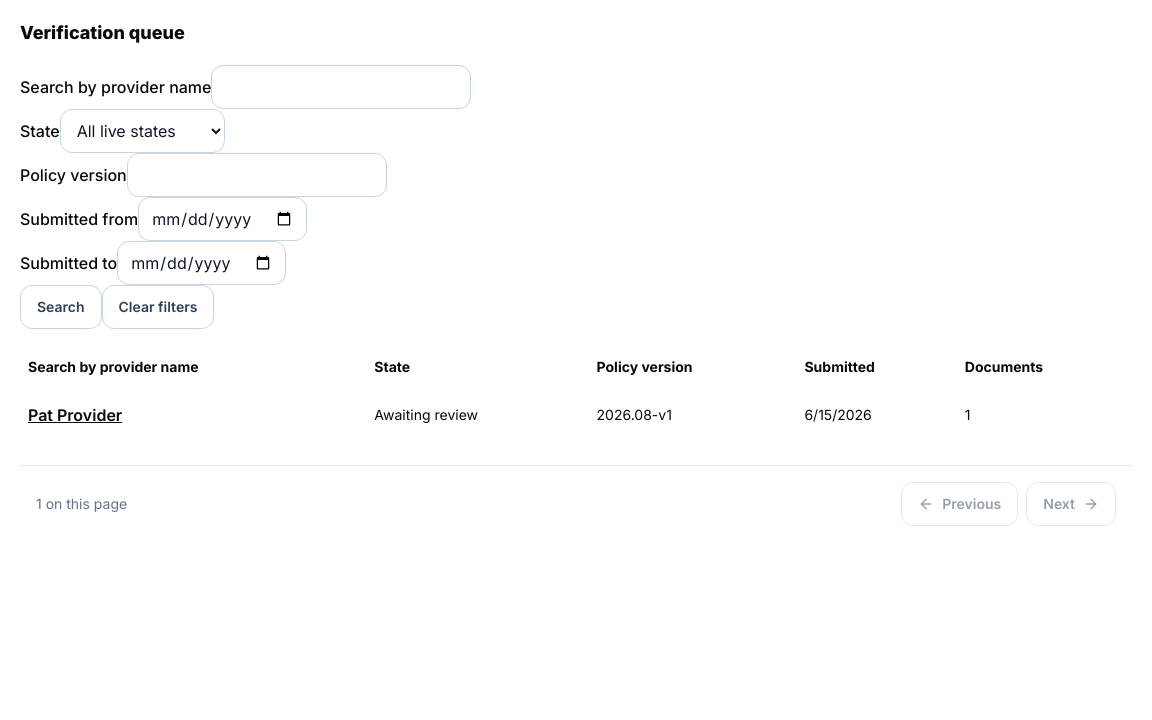
Test case: opening a case from the queue › distinguishes a permission failure on the case from a load failure
Click the button "Pat Provider": (75, 415) [28,393,122,437]
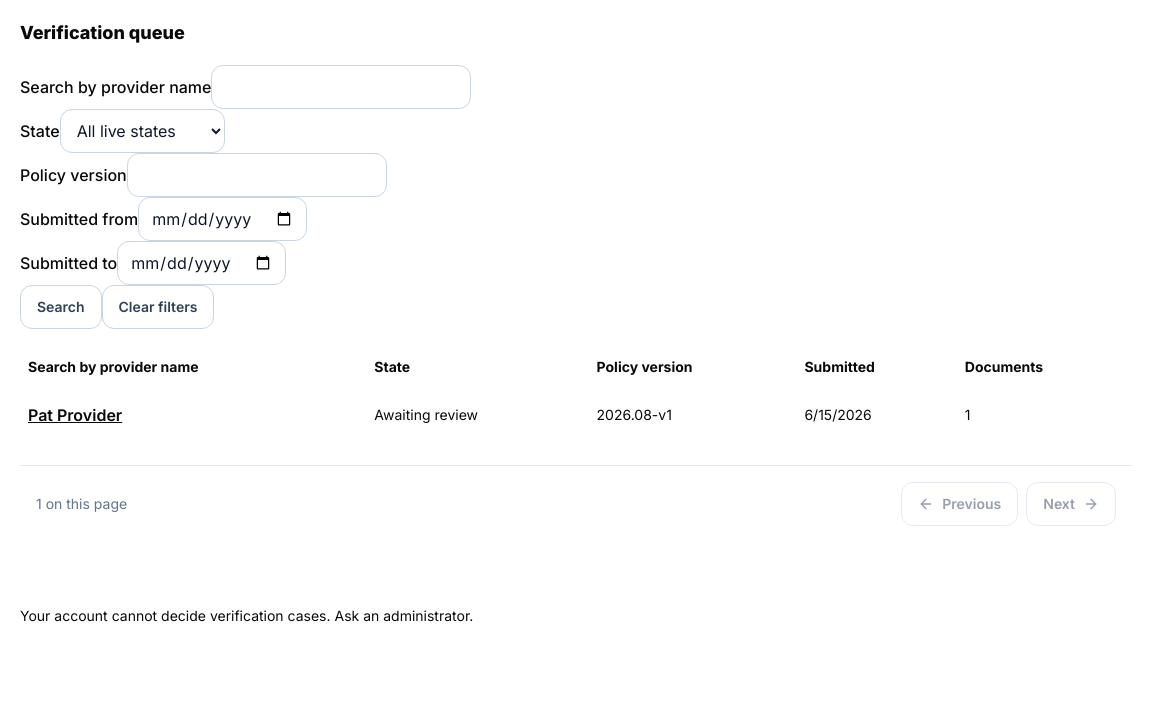
Expected: the message with test id "case-error" reads "Your account cannot decide verification cases. Ask an administrator.", [20,607,473,624]
